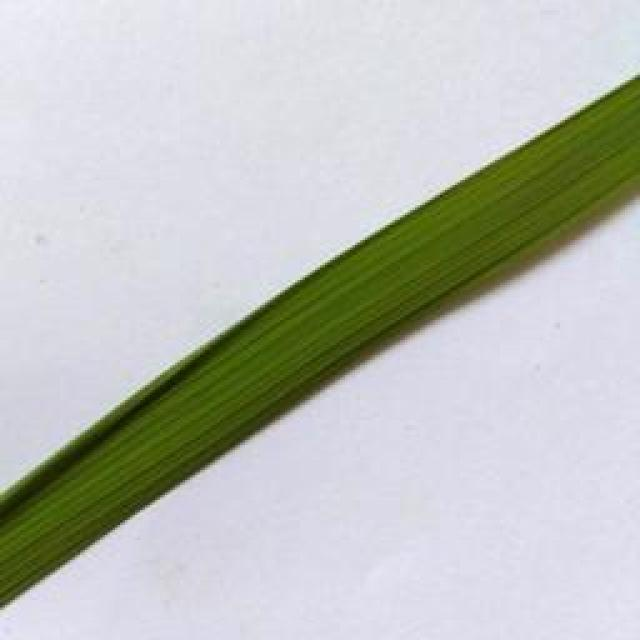Healthy-Plant: (0, 80, 640, 610)
